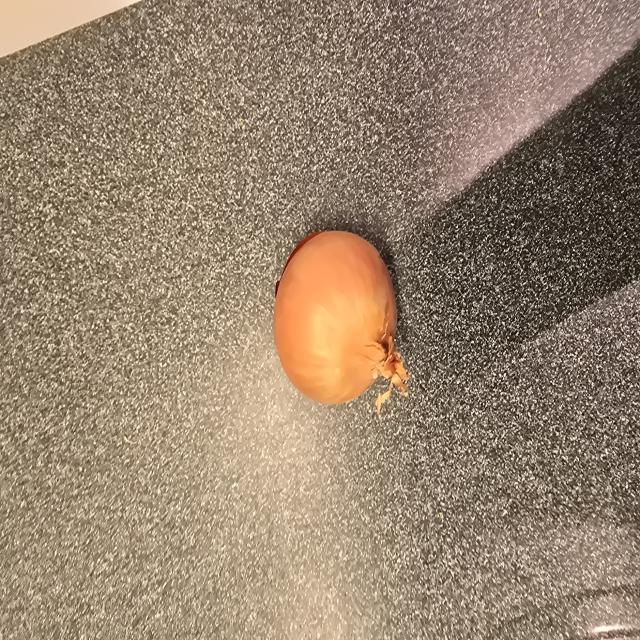Onion: (274, 231, 409, 404)
